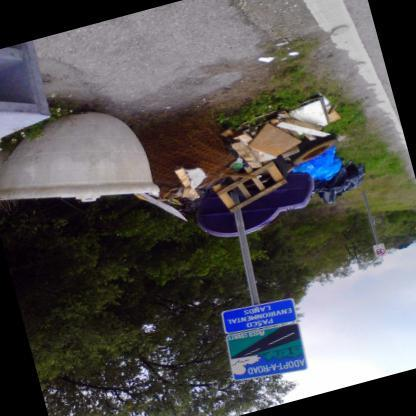Garbage: (309, 160, 366, 200), (308, 142, 352, 182)
